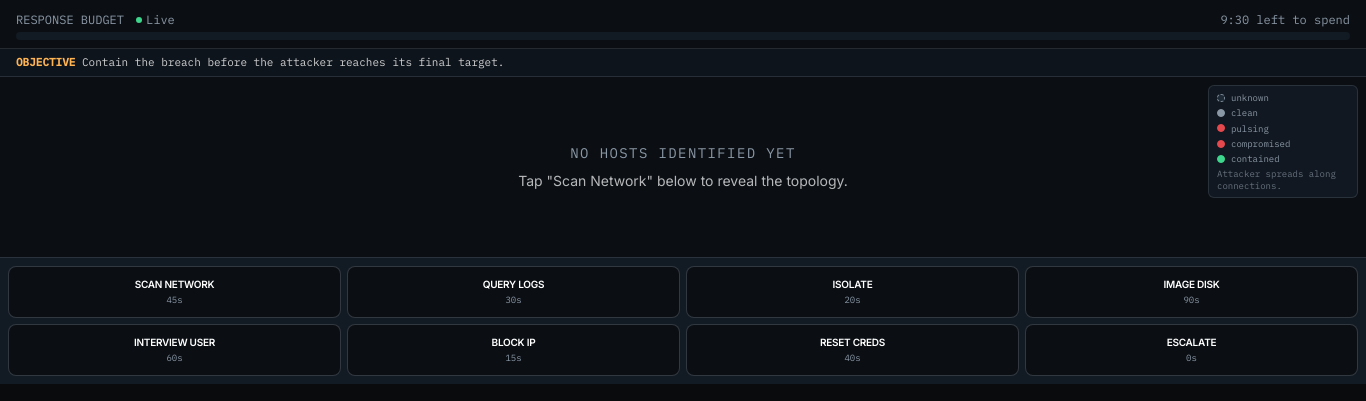
Test case: ActionConsole › per-verb coachmarks › dismisses the coachmark on a second tap of the same verb without re-submitting
Click the text "Scan Network".
click(174, 284)  # box [135,278,214,291]
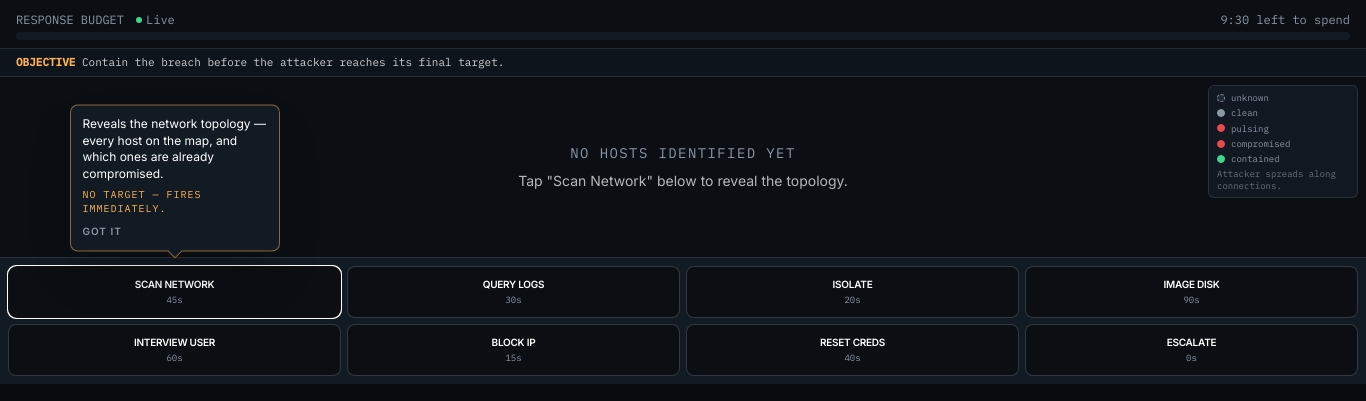
Result: the tooltip is shown at [70,105,280,256]
Click the text "Scan Network".
click(174, 284)  # box [135,278,214,291]
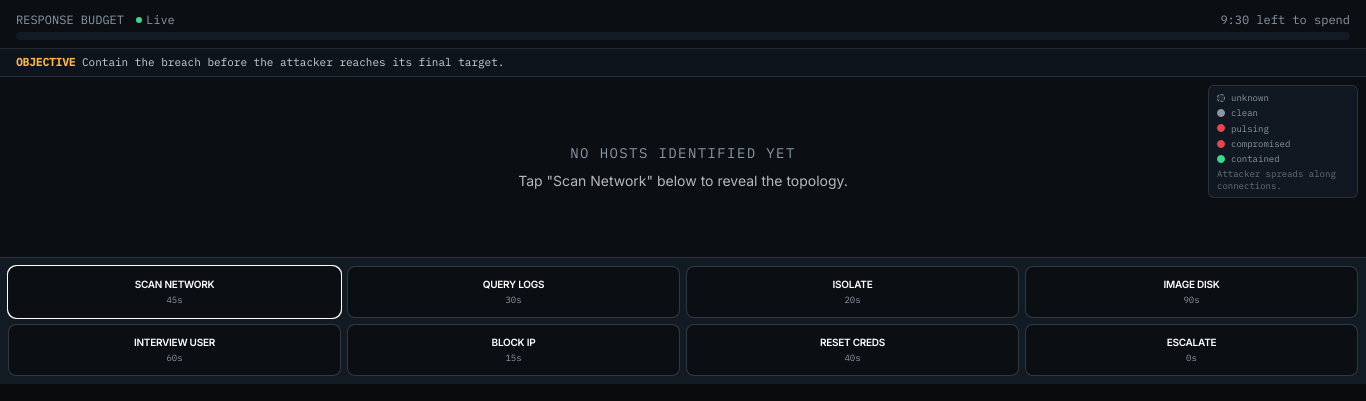
Result: the tooltip is gone
